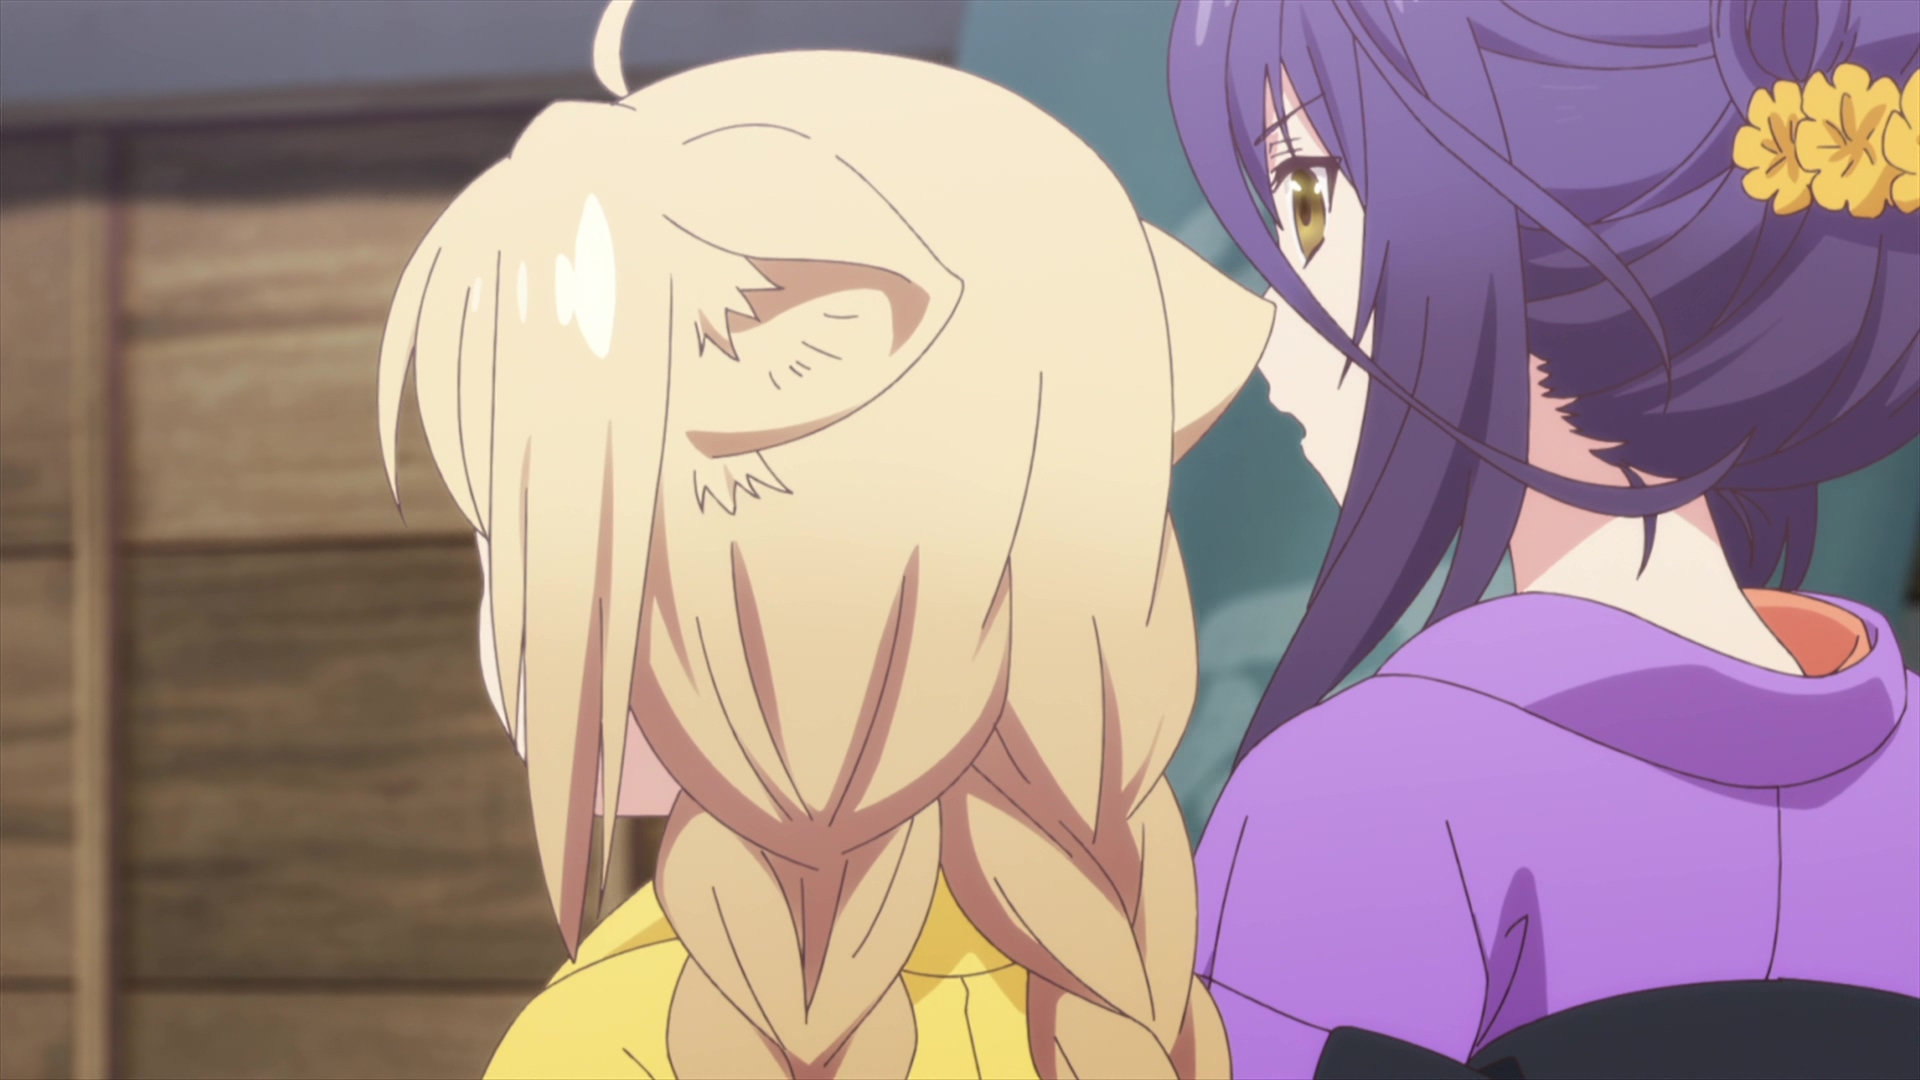柚: (375, 1, 1278, 1080)
皋: (1166, 1, 1920, 1080)
